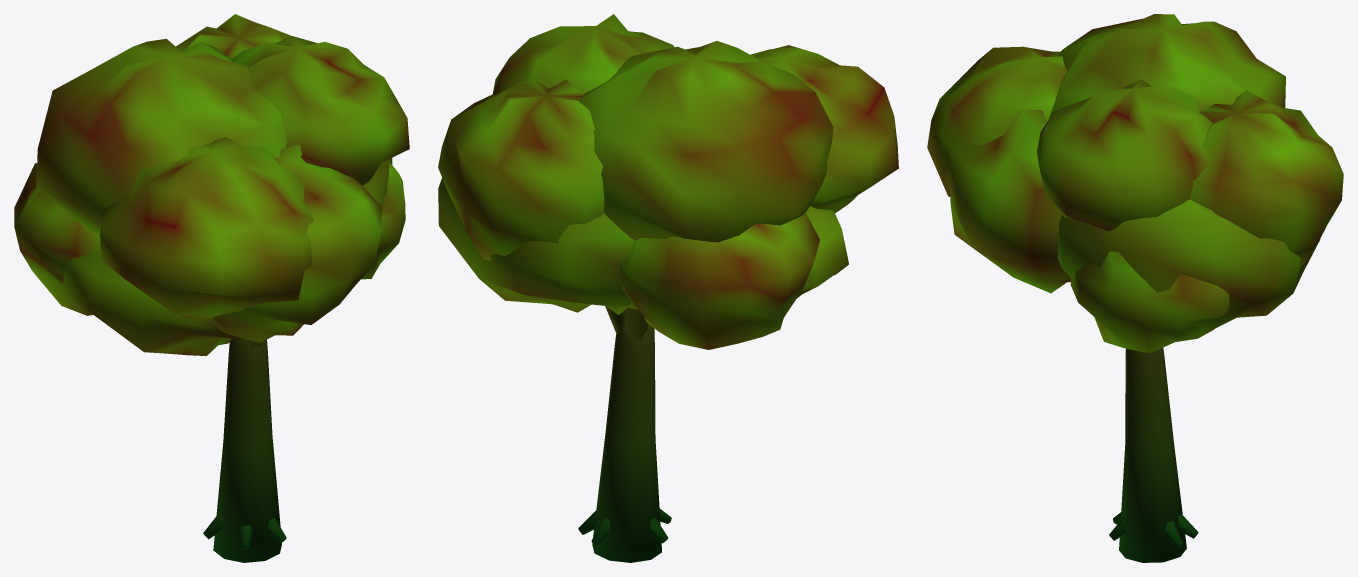
The model's file is tree_oak_b.glb.
3 views of the same model, side by side, from view 1: azimuth 30°, elevation 25°; view 2: azimuth 150°, elevation 25°; view 3: azimuth 270°, elevation 25° (orthographic). The views are drawn at different scales.
Visible parts, largest first — view 1: tree_oak_b; view 2: tree_oak_b; view 3: tree_oak_b.
Boxes of the visible parts, box(x1,y1,x2,y2) form: tree_oak_b: box(14, 14, 409, 562); tree_oak_b: box(438, 14, 898, 562); tree_oak_b: box(927, 14, 1343, 562).
Size of what is drawn, in the model's own units: 4.83 by 6.65 by 5.14.
